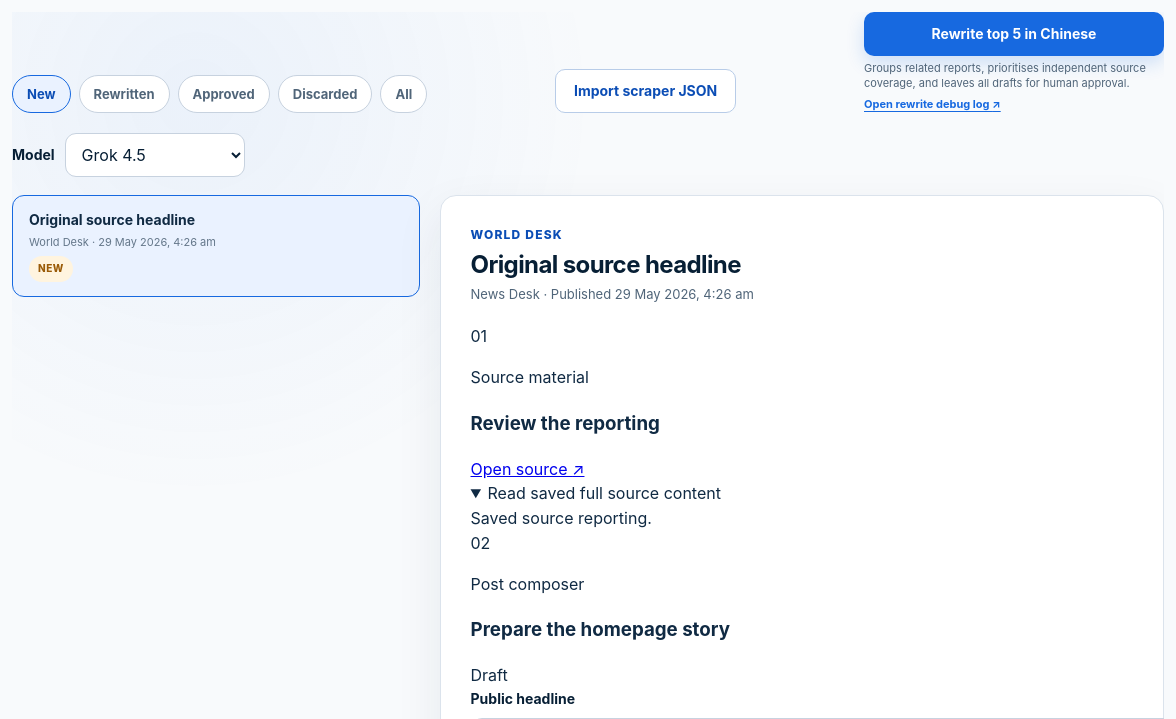
Test case: PipelineWorkspace post composer › finishes all five story groups across validation and network retries
This screenshot has width=1176, height=719.
Expected: the heading "Original source headline" is shown, top-left (470, 250), bottom-right (754, 280)
Step 1. Click the button "Rewrite top 5 in Chinese" → [1014, 34], box top-left (864, 12), bottom-right (1164, 56)
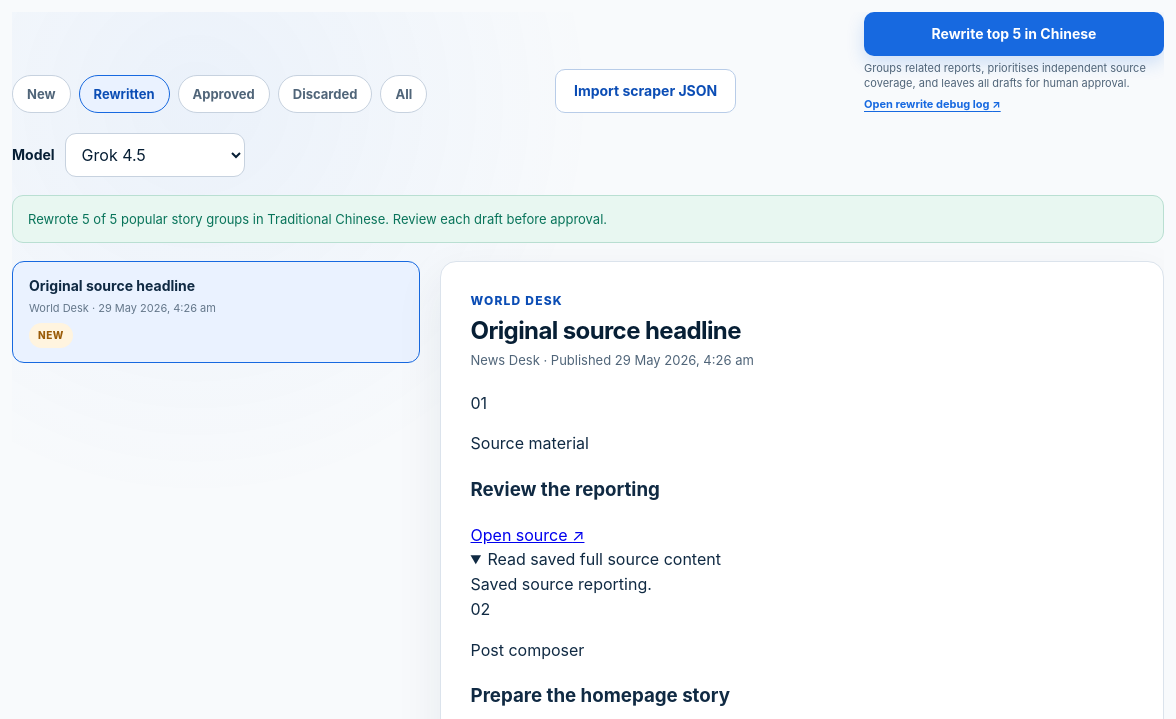
Result: the text "Rewrote 5 of 5 popular story groups" is shown at top-left (28, 211), bottom-right (607, 227)
